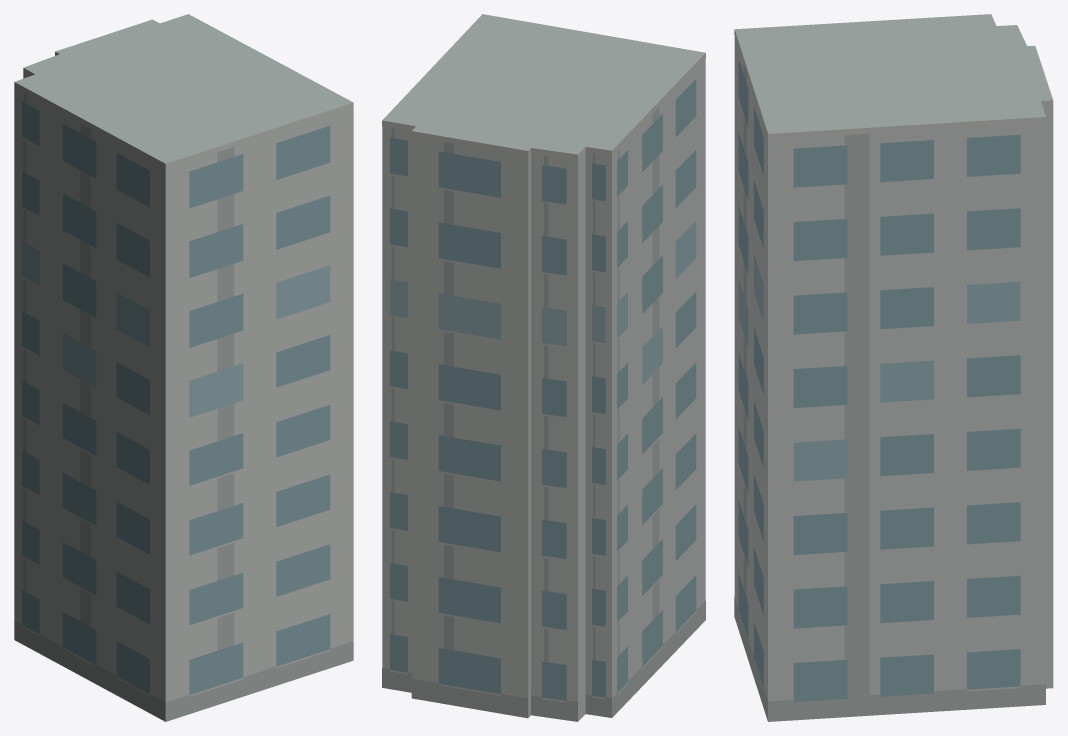
Rendered from survey-upis-32575967.glb.
3 views of the same model, side by side, from view 1: azimuth 30°, elevation 25°; view 2: azimuth 150°, elevation 25°; view 3: azimuth 270°, elevation 25° (orthographic). The views are drawn at different scales.
Parts seen in each view (by area): view 1: survey-upis-32575967.tmp; view 2: survey-upis-32575967.tmp; view 3: survey-upis-32575967.tmp.
Boxes of the visible parts, x1,y1,x2,y2 form: survey-upis-32575967.tmp: (14, 14, 353, 721); survey-upis-32575967.tmp: (382, 14, 705, 721); survey-upis-32575967.tmp: (734, 14, 1053, 721).
Size of the model in its own units: 10.99 by 25.1 by 12.34.
